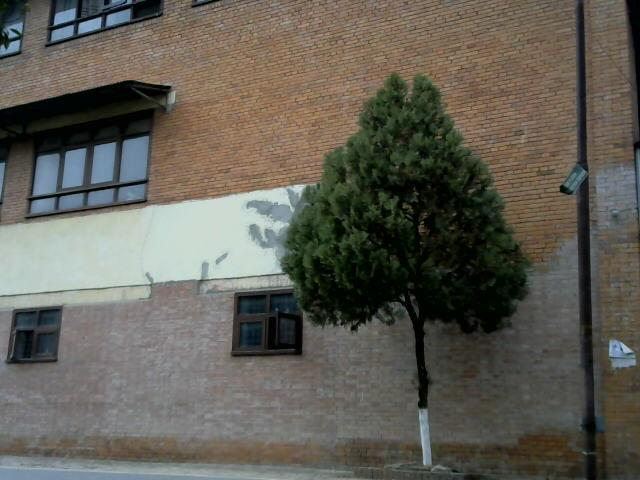Building: (3, 3, 326, 480)
Electrical Pole: (561, 0, 618, 480)
Tree: (281, 61, 526, 477)
